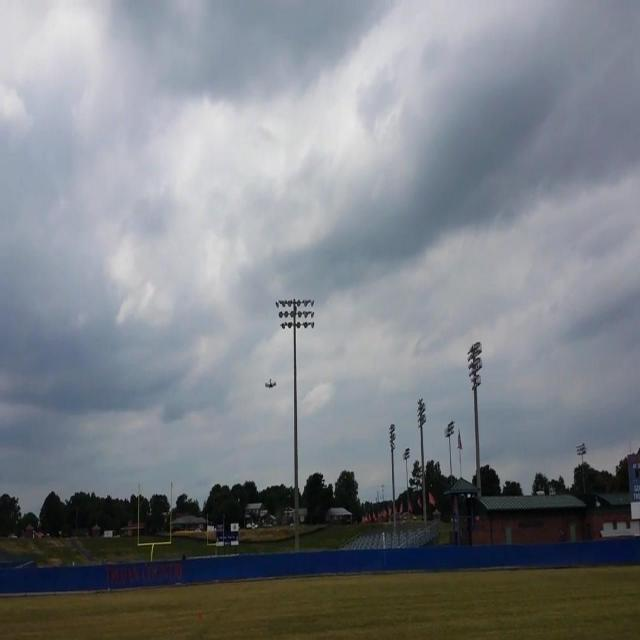UAV: (265, 379, 277, 389)
